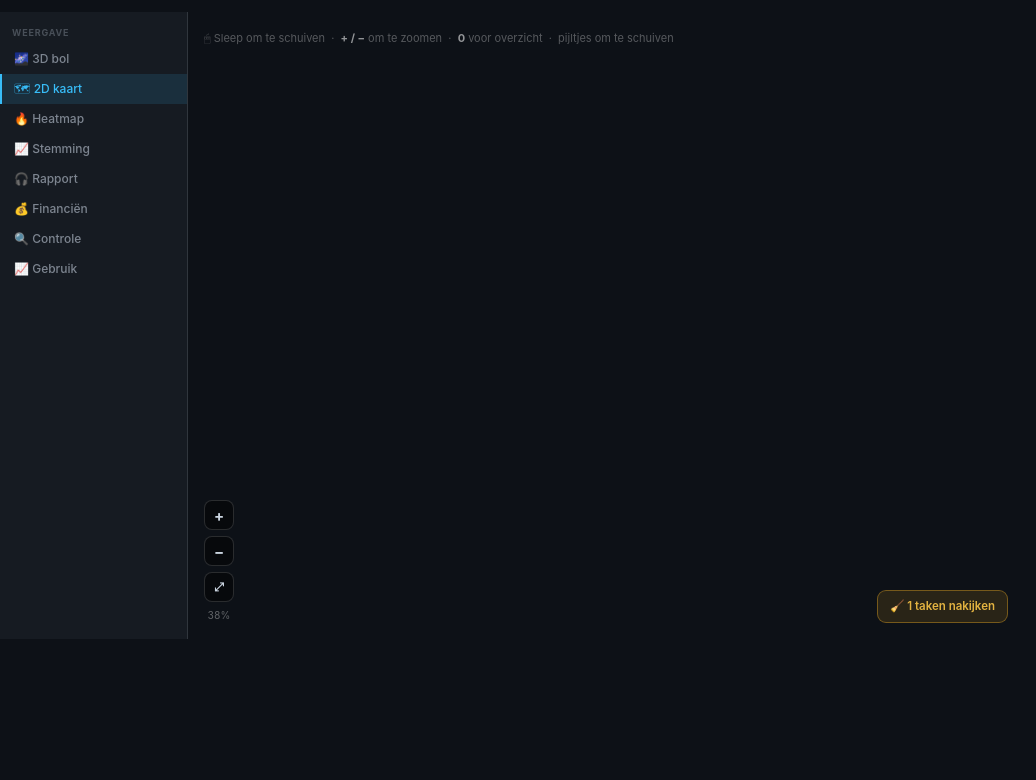
Test: GraphTab — bijwerken › biedt aan om zulke taken bij te werken, met het bewijs erbij
Click the button "🧹 1 taken nakijken". click: (942, 606)
box: [877,590,1008,623]
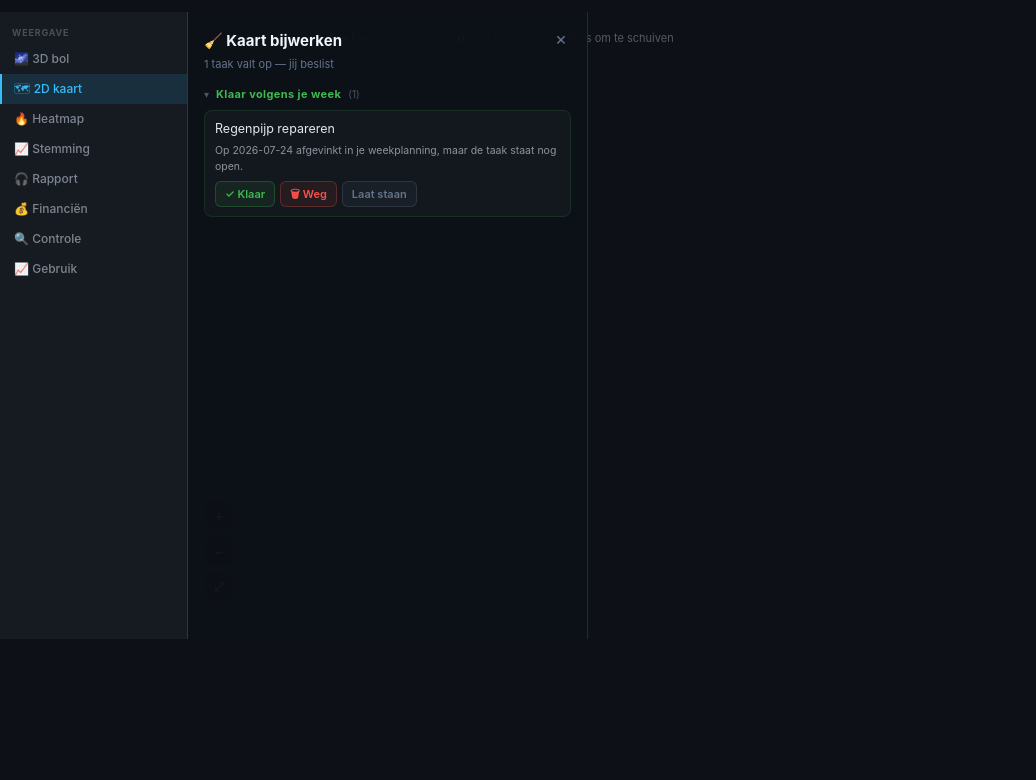
Expected: the text "Regenpijp repareren" is shown, [215,120,335,136]
Expected: the text "2026-07-24 afgevinkt in je weekplanning" is shown, [215,144,556,173]
